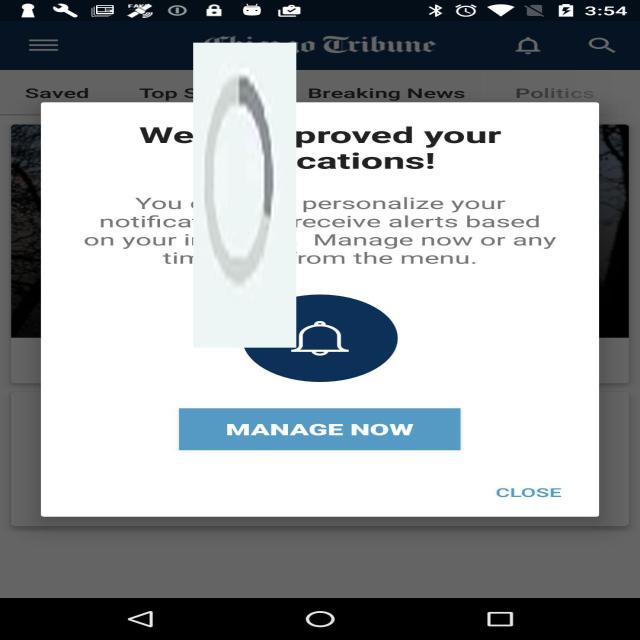misdirection: (193, 42, 296, 348)
